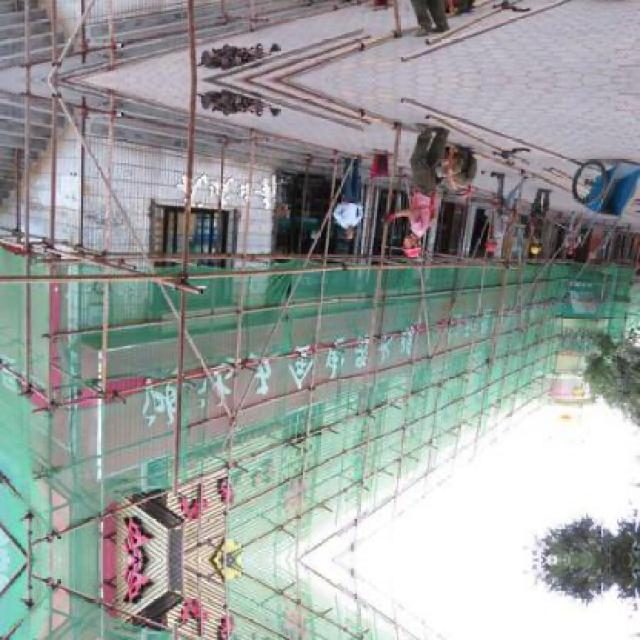con casco: (377, 216, 469, 270)
